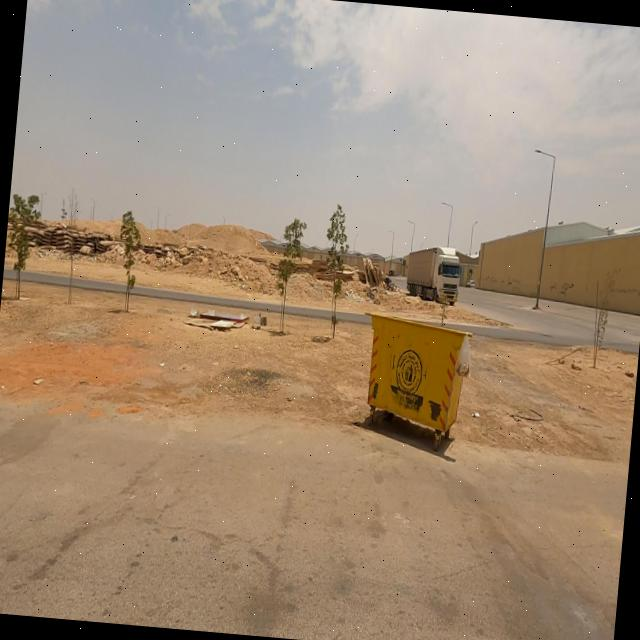Graffiti: (551, 280, 575, 299), (611, 285, 640, 300)
